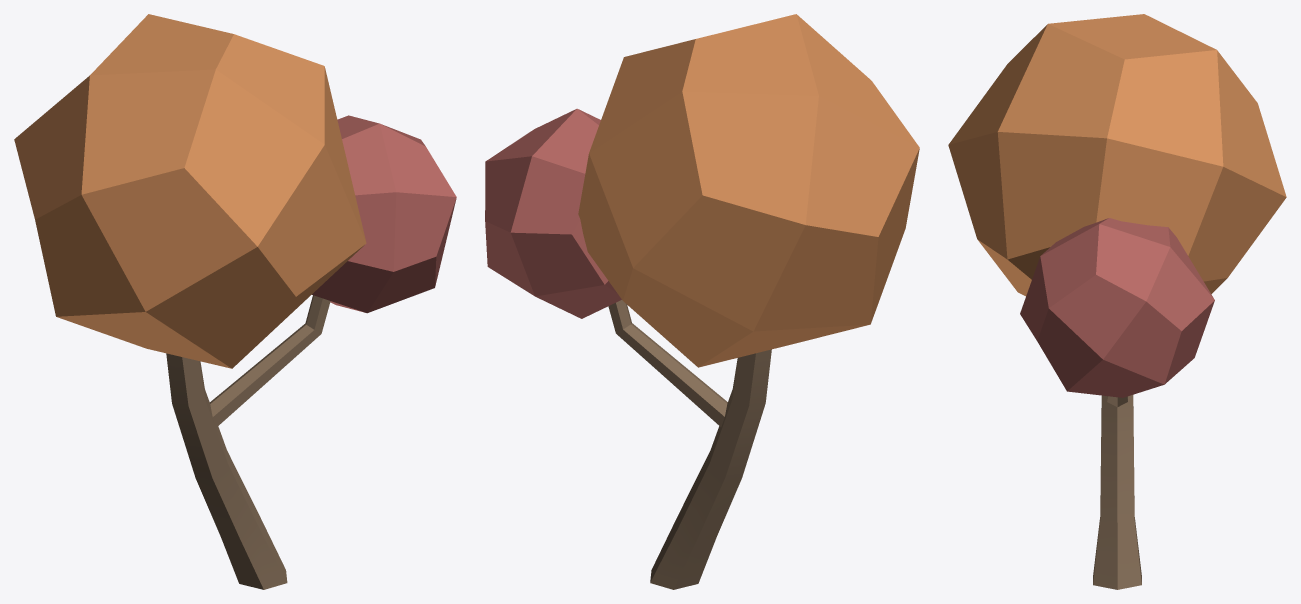
File: tree3.gltf
3 views of the same model, side by side, from view 1: azimuth 30°, elevation 25°; view 2: azimuth 150°, elevation 25°; view 3: azimuth 270°, elevation 25° (orthographic). The views are drawn at different scales.
Parts seen in each view (by area): view 1: tree3; view 2: tree3; view 3: tree3.
Boxes of the visible parts, x1=… form: tree3: x1=14, y1=14, x2=456, y2=589; tree3: x1=485, y1=14, x2=919, y2=589; tree3: x1=948, y1=14, x2=1286, y2=589.
Bounding box in the file's own units: 7.12 × 9.56 × 5.64.
